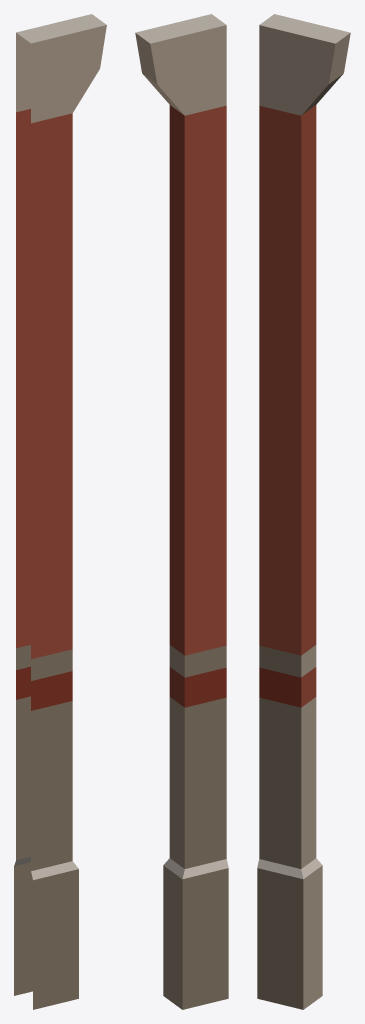
File: red_brick_building_column.fbx
3 views of the same model, side by side, from view 1: azimuth 30°, elevation 25°; view 2: azimuth 210°, elevation 25°; view 3: azimuth 330°, elevation 25° (orthographic).
Parts seen in each view (by area): view 1: red_brick_building_column; view 2: red_brick_building_column; view 3: red_brick_building_column.
Part boxes in pixels (x1=…): red_brick_building_column: x1=14, y1=14, x2=106, y2=1009; red_brick_building_column: x1=135, y1=14, x2=228, y2=1009; red_brick_building_column: x1=257, y1=14, x2=350, y2=1009.
Size of the model in its own units: 146 by 1770 by 63.31.
